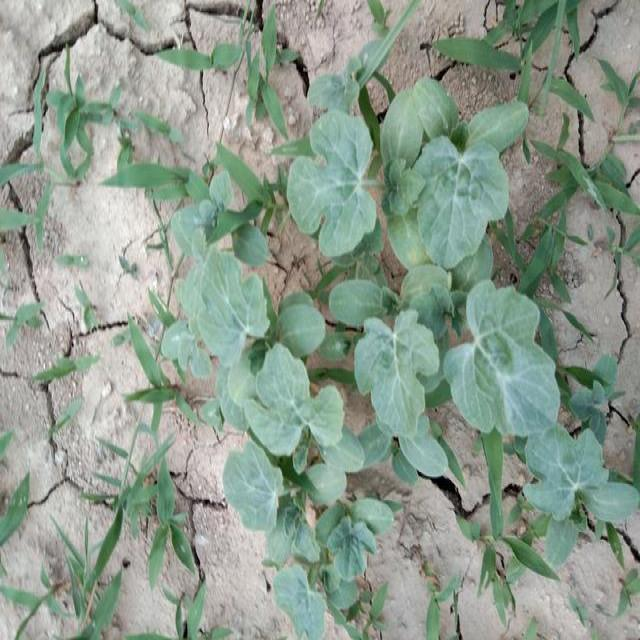weed: (179, 264, 640, 580), (408, 242, 628, 553), (210, 279, 354, 551), (286, 96, 519, 237), (150, 136, 282, 269)
